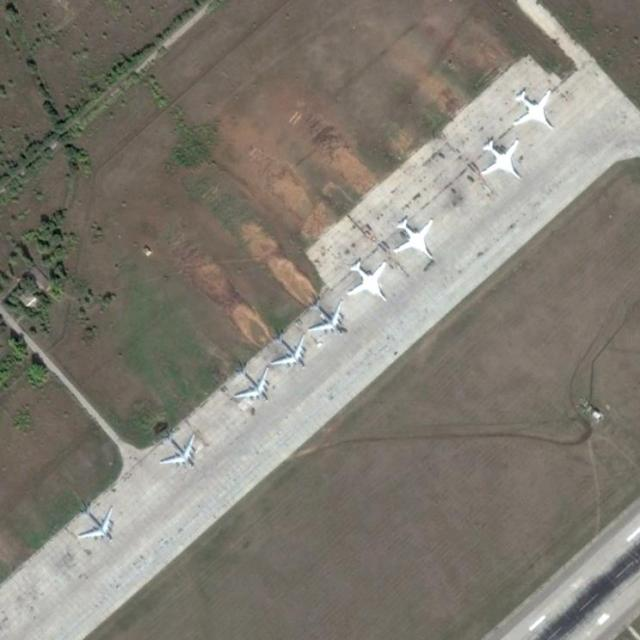fighter jet: (474, 142, 526, 184), (392, 216, 434, 262), (349, 259, 388, 300), (76, 506, 118, 544), (272, 327, 308, 369), (162, 431, 199, 470), (232, 365, 268, 404), (308, 298, 347, 334)
